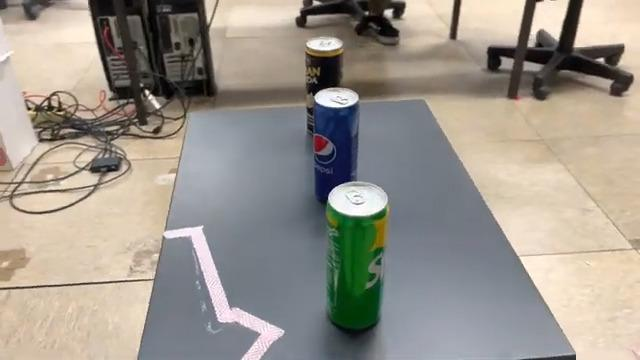OranSoda: (302, 34, 346, 140)
Pepsi: (311, 83, 361, 205)
Sprite: (322, 178, 392, 338)
